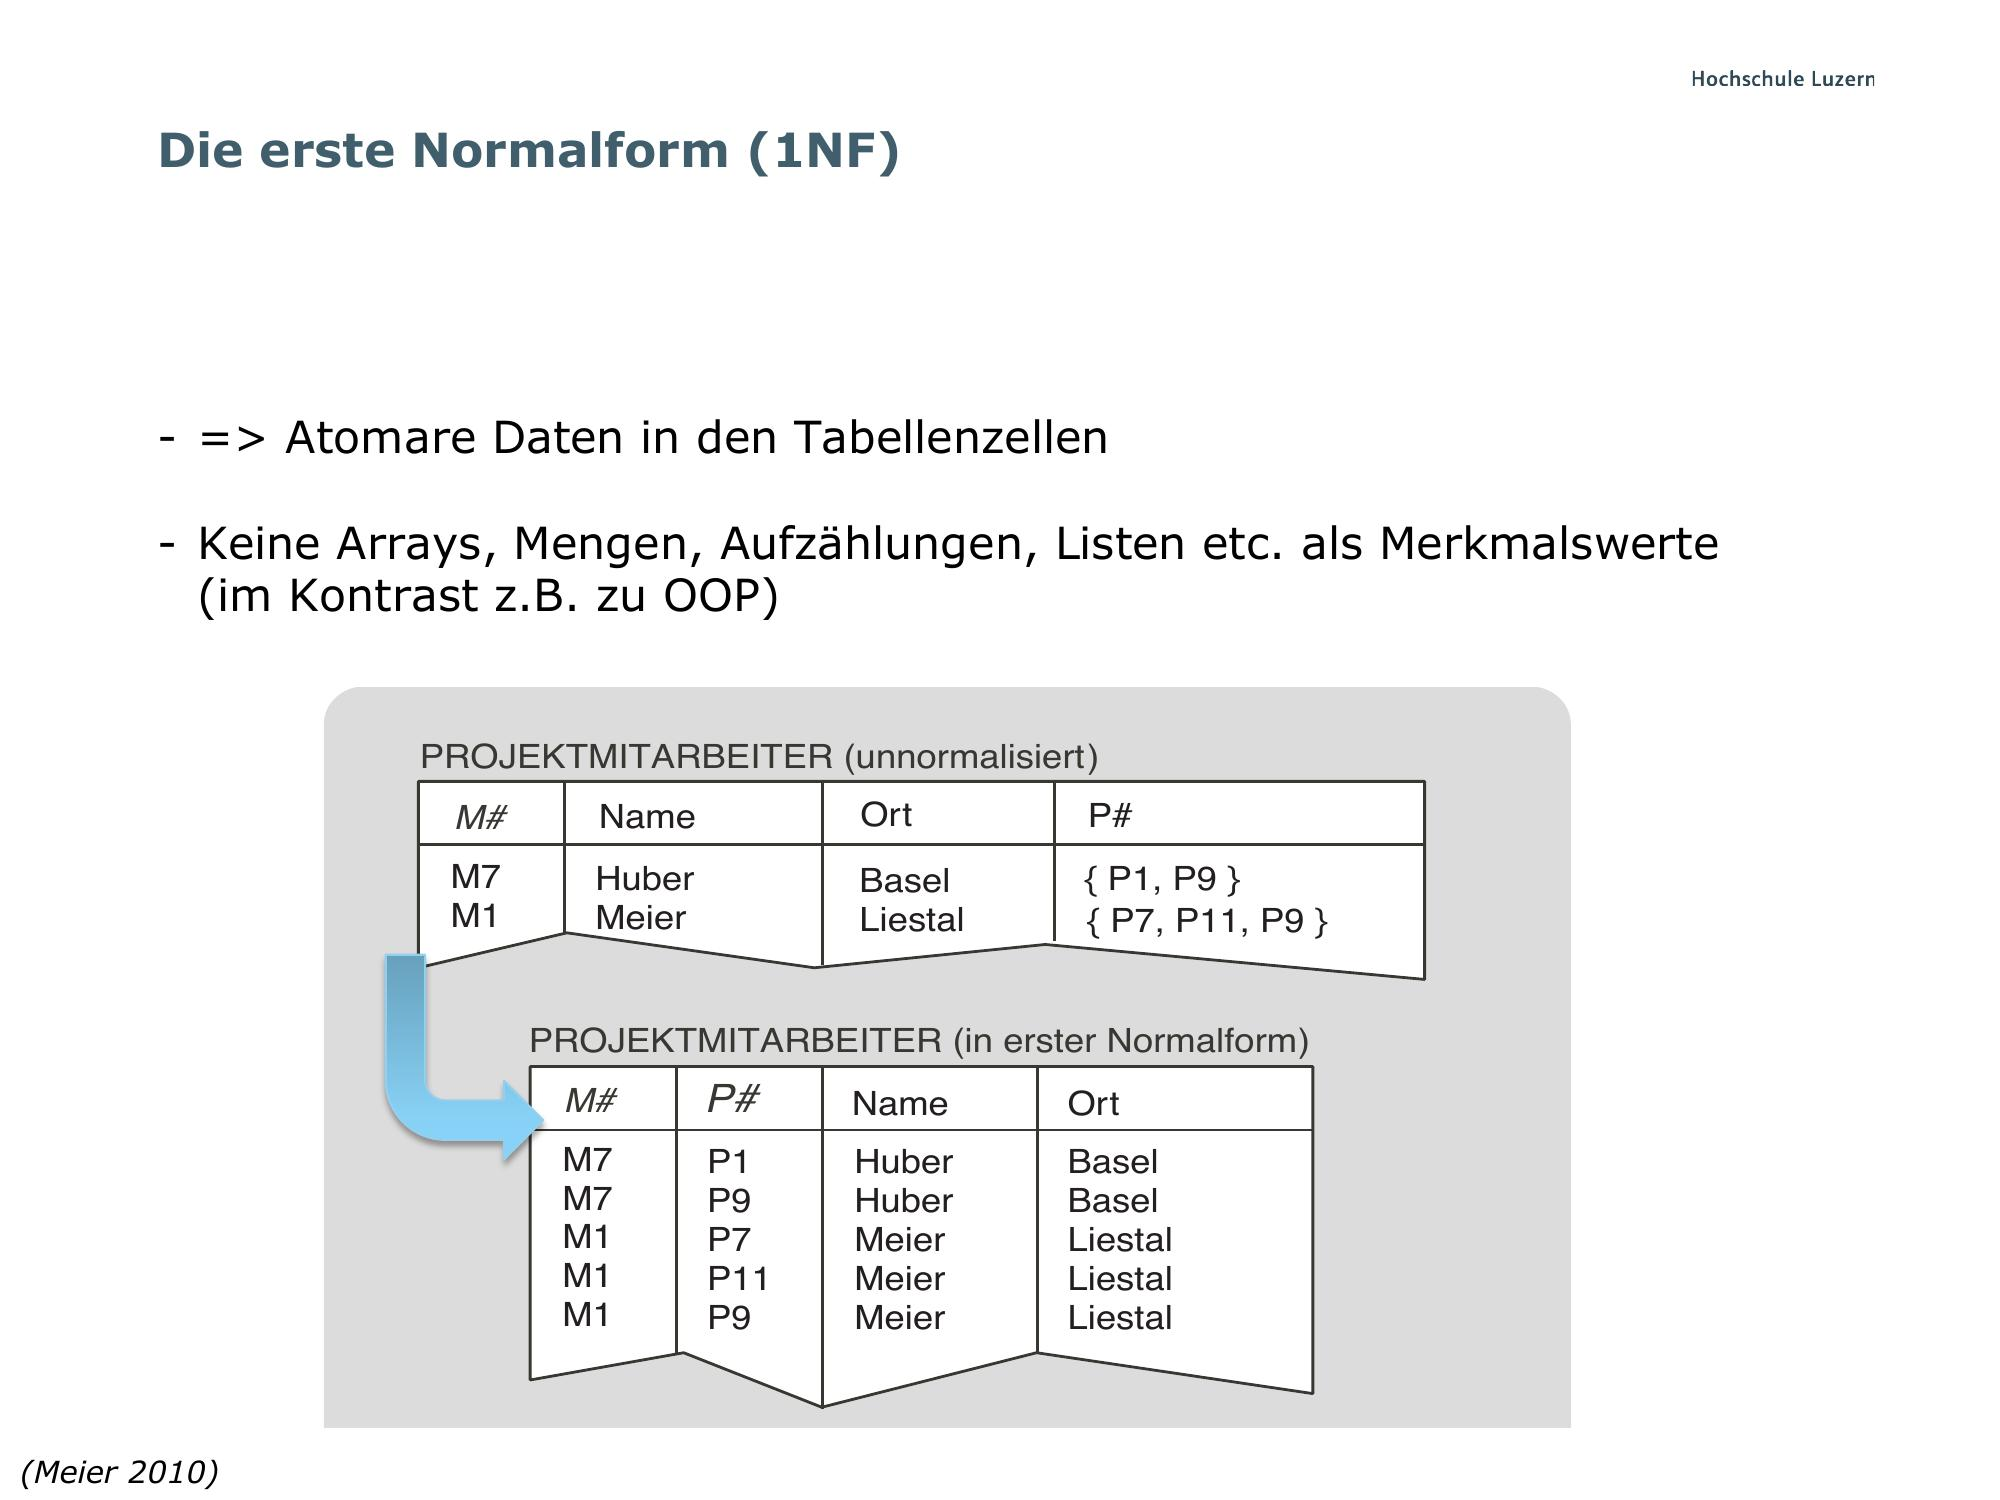Title: (139, 113, 920, 195)
